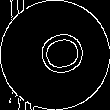O_W: (25, 28, 85, 82)
